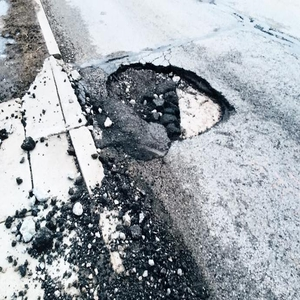pothole: (101, 58, 237, 148)
